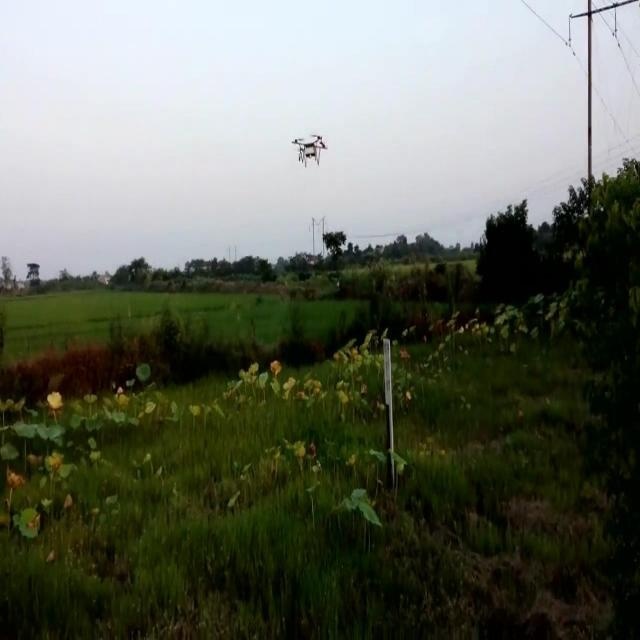UAV: (291, 135, 328, 168)
